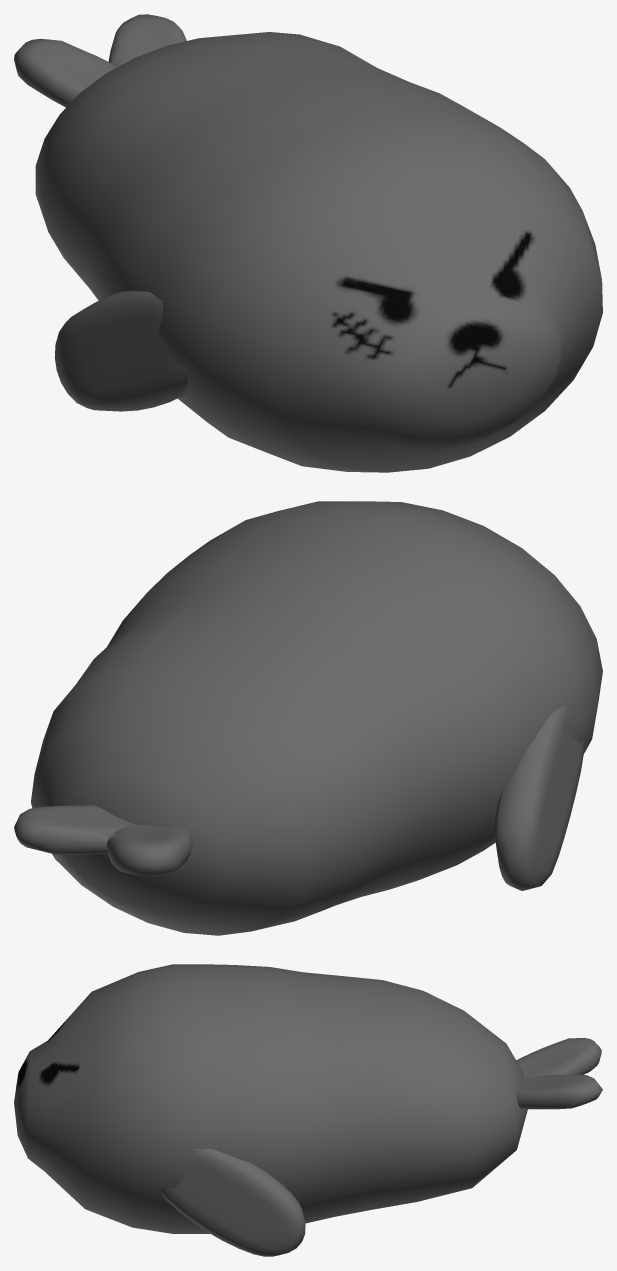
Rendered from SealLeftRotate.gltf.
3 renders of one model, top to bottom at view 1: azimuth 30°, elevation 25°; view 2: azimuth 150°, elevation 25°; view 3: azimuth 270°, elevation 25°, orthographic. The views are drawn at different scales.
Parts seen in each view (by area): view 1: Sphere, Plane, Plane.001; view 2: Sphere, Plane, Plane.001; view 3: Sphere, Plane, Plane.001.
Boxes of the visible parts, x1,y1,x2,y2 form: Sphere: [35, 32, 602, 472]; Plane: [54, 291, 188, 411]; Plane.001: [14, 14, 186, 107]; Sphere: [31, 501, 602, 935]; Plane: [494, 704, 584, 890]; Plane.001: [14, 805, 192, 875]; Sphere: [14, 964, 527, 1233]; Plane: [161, 1149, 305, 1256]; Plane.001: [516, 1038, 602, 1109].
Bounding box in the file's own units: 2.32 × 1.47 × 3.45.
Materials: 2 (1 with a texture image).
